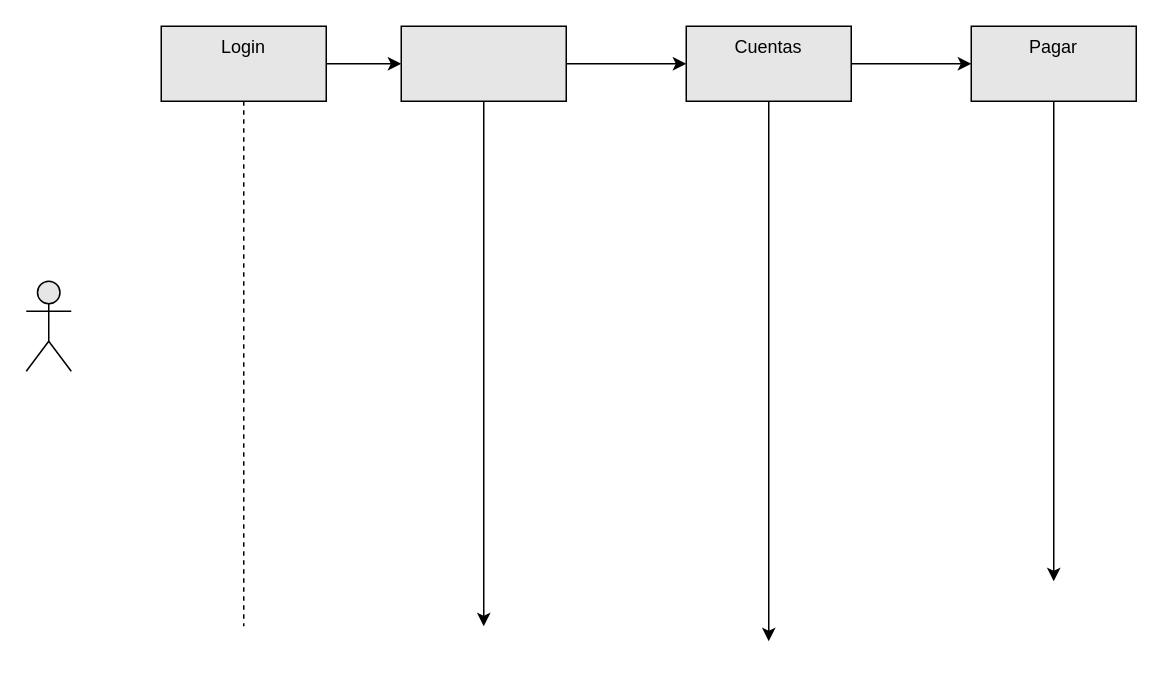
Some shapes in this 1163 by 680 pixel diagram are drawn without their labels. The shapes that lost their labels are listed below. From the top down, each one's centre as x and y in pixels, then its label:
At point (483, 63): "Periodo".
At point (48, 325): "Actor".
